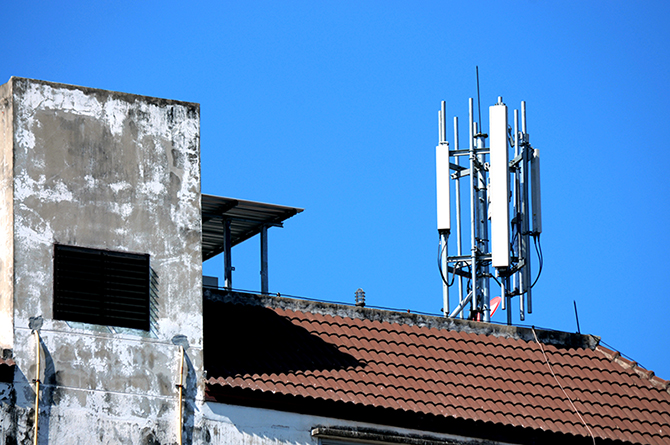a: (485, 99, 514, 276), (428, 137, 455, 240), (522, 143, 548, 242)
